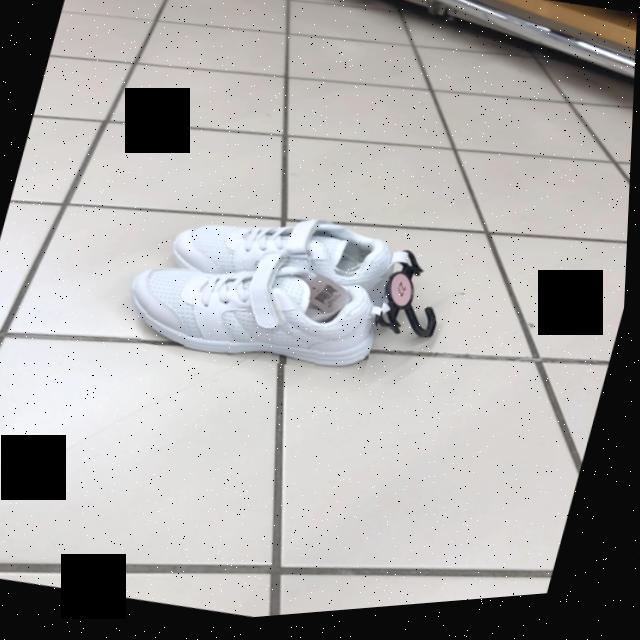shoe: (132, 267, 383, 374)
